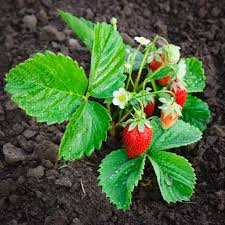ripe: (123, 116, 154, 159), (169, 82, 189, 108), (137, 93, 157, 116), (146, 49, 164, 72), (156, 69, 171, 89)
unripe: (156, 101, 182, 132)
